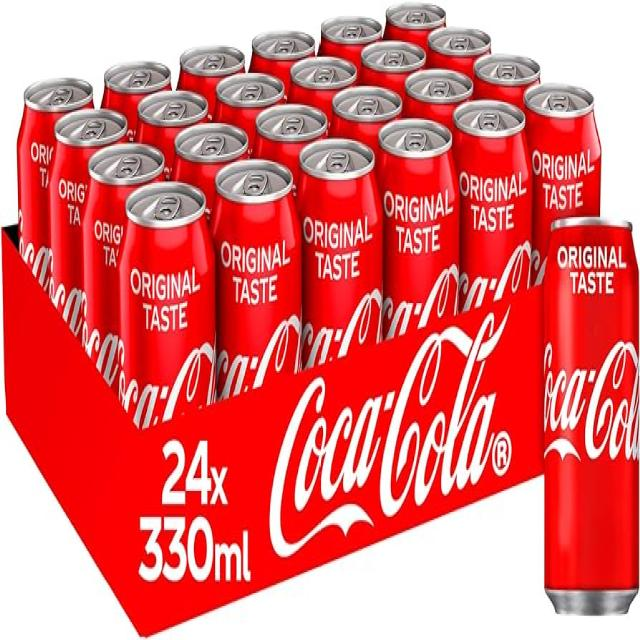cocacola: (544, 221, 639, 624), (119, 196, 217, 444), (214, 164, 305, 423), (52, 96, 144, 344), (305, 142, 387, 364), (82, 161, 160, 388), (453, 106, 538, 309), (17, 73, 100, 276), (378, 111, 452, 325), (525, 85, 601, 284)
